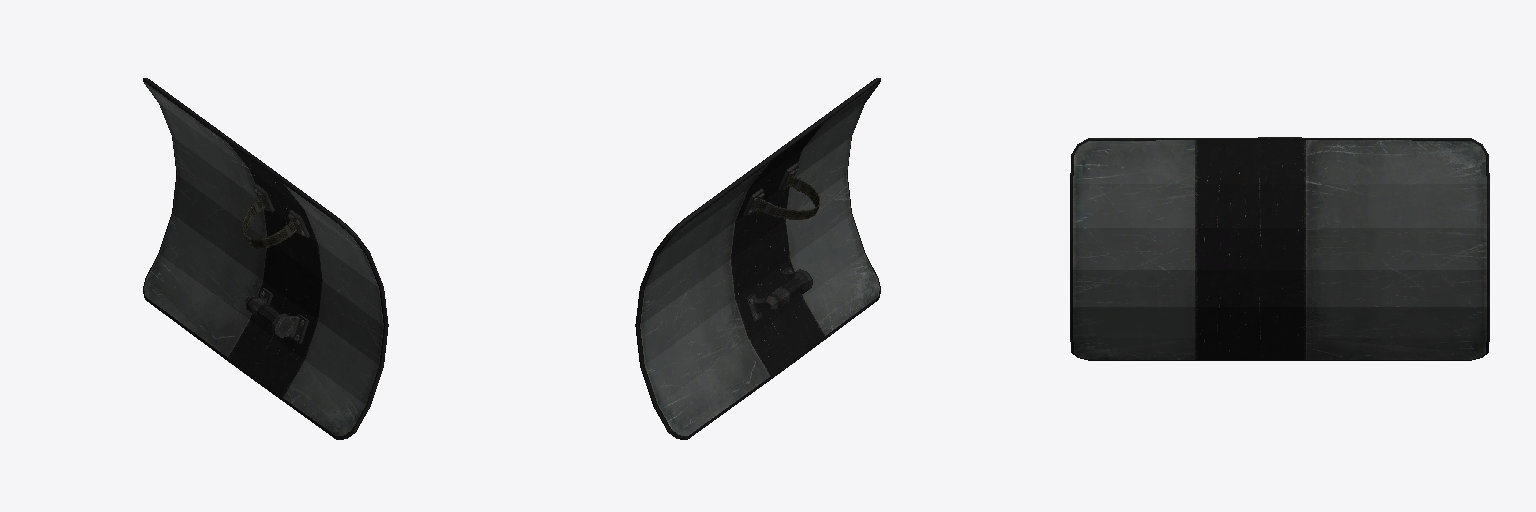
The picture shows the model from 3 angles: view 1: azimuth 30°, elevation 25°; view 2: azimuth 150°, elevation 25°; view 3: azimuth 270°, elevation 25°; orthographic projection.
Visible parts, largest first — view 1: mtl_weapon_riot_shield_glass, mtl_weapon_riot_shield; view 2: mtl_weapon_riot_shield_glass, mtl_weapon_riot_shield; view 3: mtl_weapon_riot_shield_glass, mtl_weapon_riot_shield.
Part boxes in pixels (x1,y1,x2,y2): mtl_weapon_riot_shield_glass: (144,82,383,435); mtl_weapon_riot_shield: (143,78,388,439); mtl_weapon_riot_shield_glass: (640,83,879,435); mtl_weapon_riot_shield: (635,78,880,439); mtl_weapon_riot_shield_glass: (1073,140,1486,359); mtl_weapon_riot_shield: (1070,137,1489,360).
Size of the model in its own units: 20.49 by 75.89 by 129.
2 materials, 1 textured.